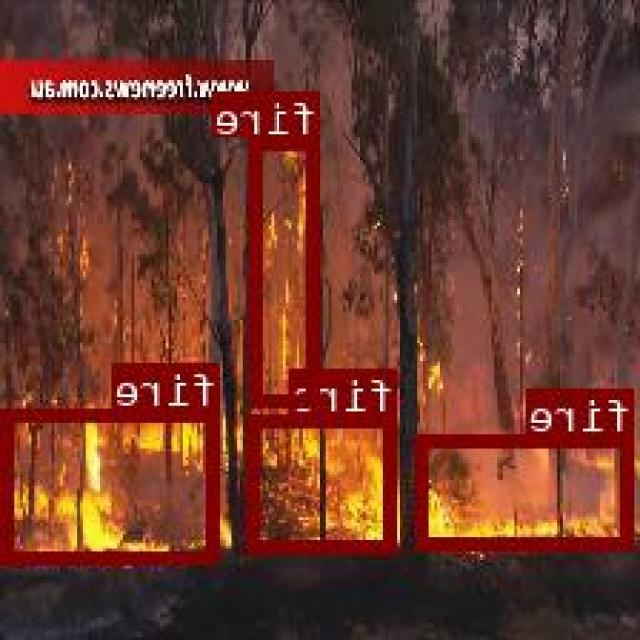fire: (6, 408, 222, 560), (419, 432, 637, 548), (250, 414, 399, 550), (254, 135, 322, 404)
